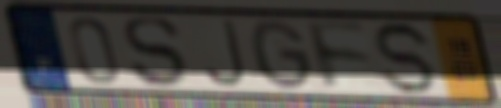0: (65, 14, 122, 86)
F: (302, 18, 375, 94)
G: (246, 17, 318, 93)
J: (198, 17, 250, 90)
S: (372, 19, 441, 97), (120, 14, 190, 89)
